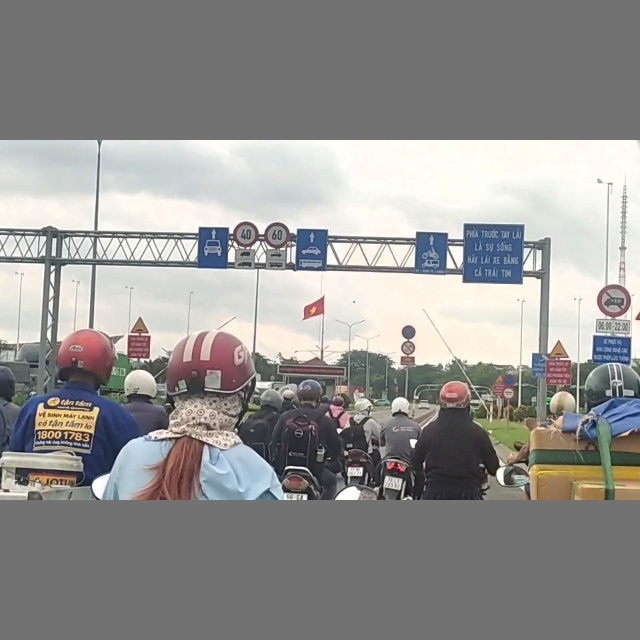Camera: (530, 352, 547, 378)
P.106a*Xe tai: (597, 283, 631, 317)
P.111: (401, 341, 415, 355)
P.127*40: (234, 221, 259, 247)
P.127*60: (264, 222, 290, 248)
P.129: (503, 388, 515, 399)
P.130: (402, 325, 416, 339)
P.131a: (504, 374, 515, 387)
W.221b: (128, 316, 152, 334), (549, 340, 570, 359), (494, 374, 503, 385)
